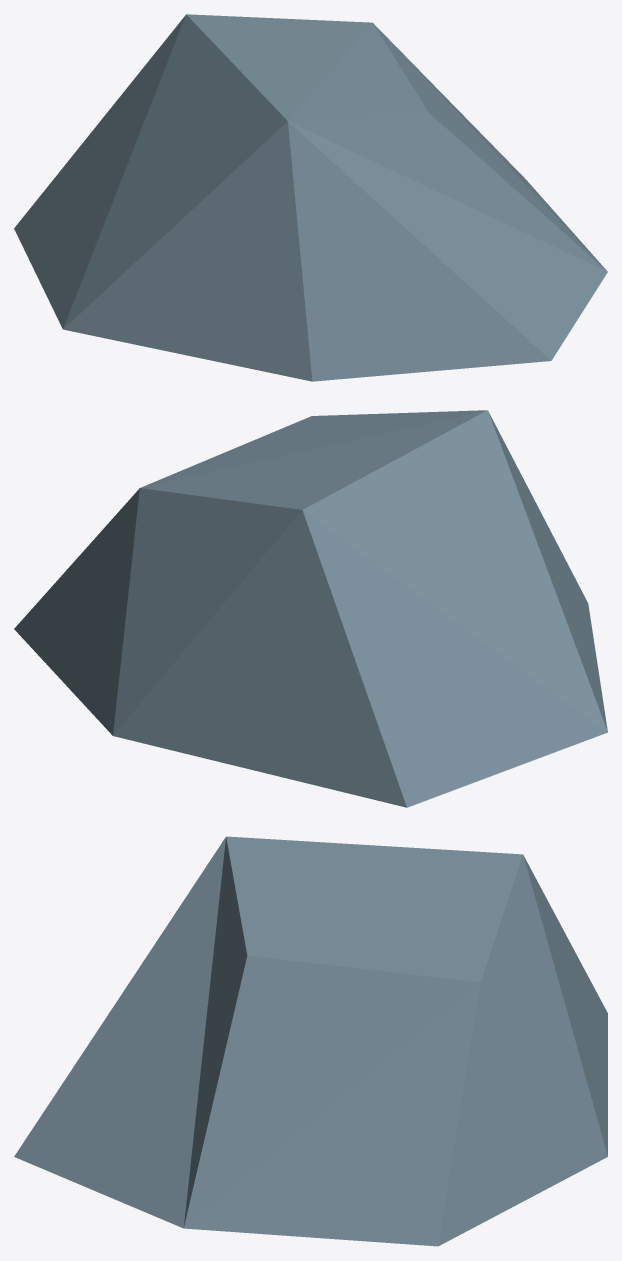
The model's file is Rock (2).obj.
The picture shows the model from 3 angles, top to bottom: view 1: azimuth 30°, elevation 25°; view 2: azimuth 150°, elevation 25°; view 3: azimuth 270°, elevation 25°; orthographic projection. The views are drawn at different scales.
Visible parts, largest first — view 1: group260489964; view 2: group260489964; view 3: group260489964.
Boxes of the visible parts, <box> form: group260489964: <box>14,14,607,381</box>; group260489964: <box>14,410,607,807</box>; group260489964: <box>14,836,607,1246</box>.
Size of the model in its own units: 0.15 by 0.06 by 0.14.
